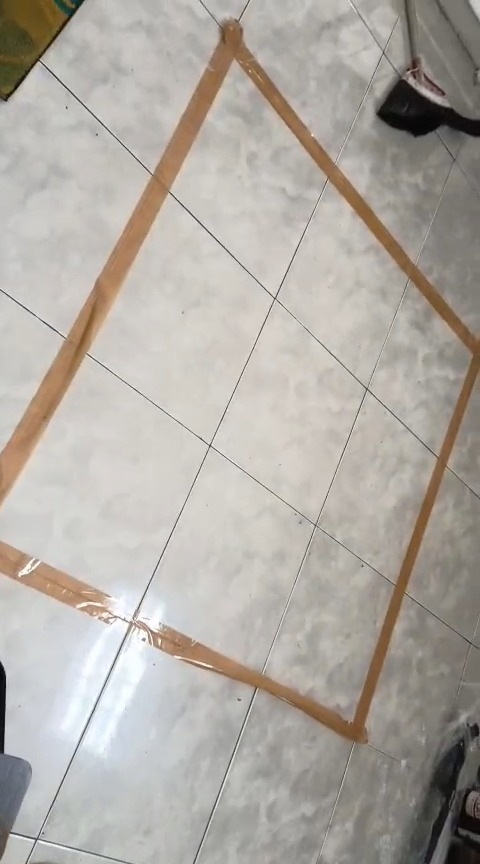floor marking: (0, 20, 479, 742)
